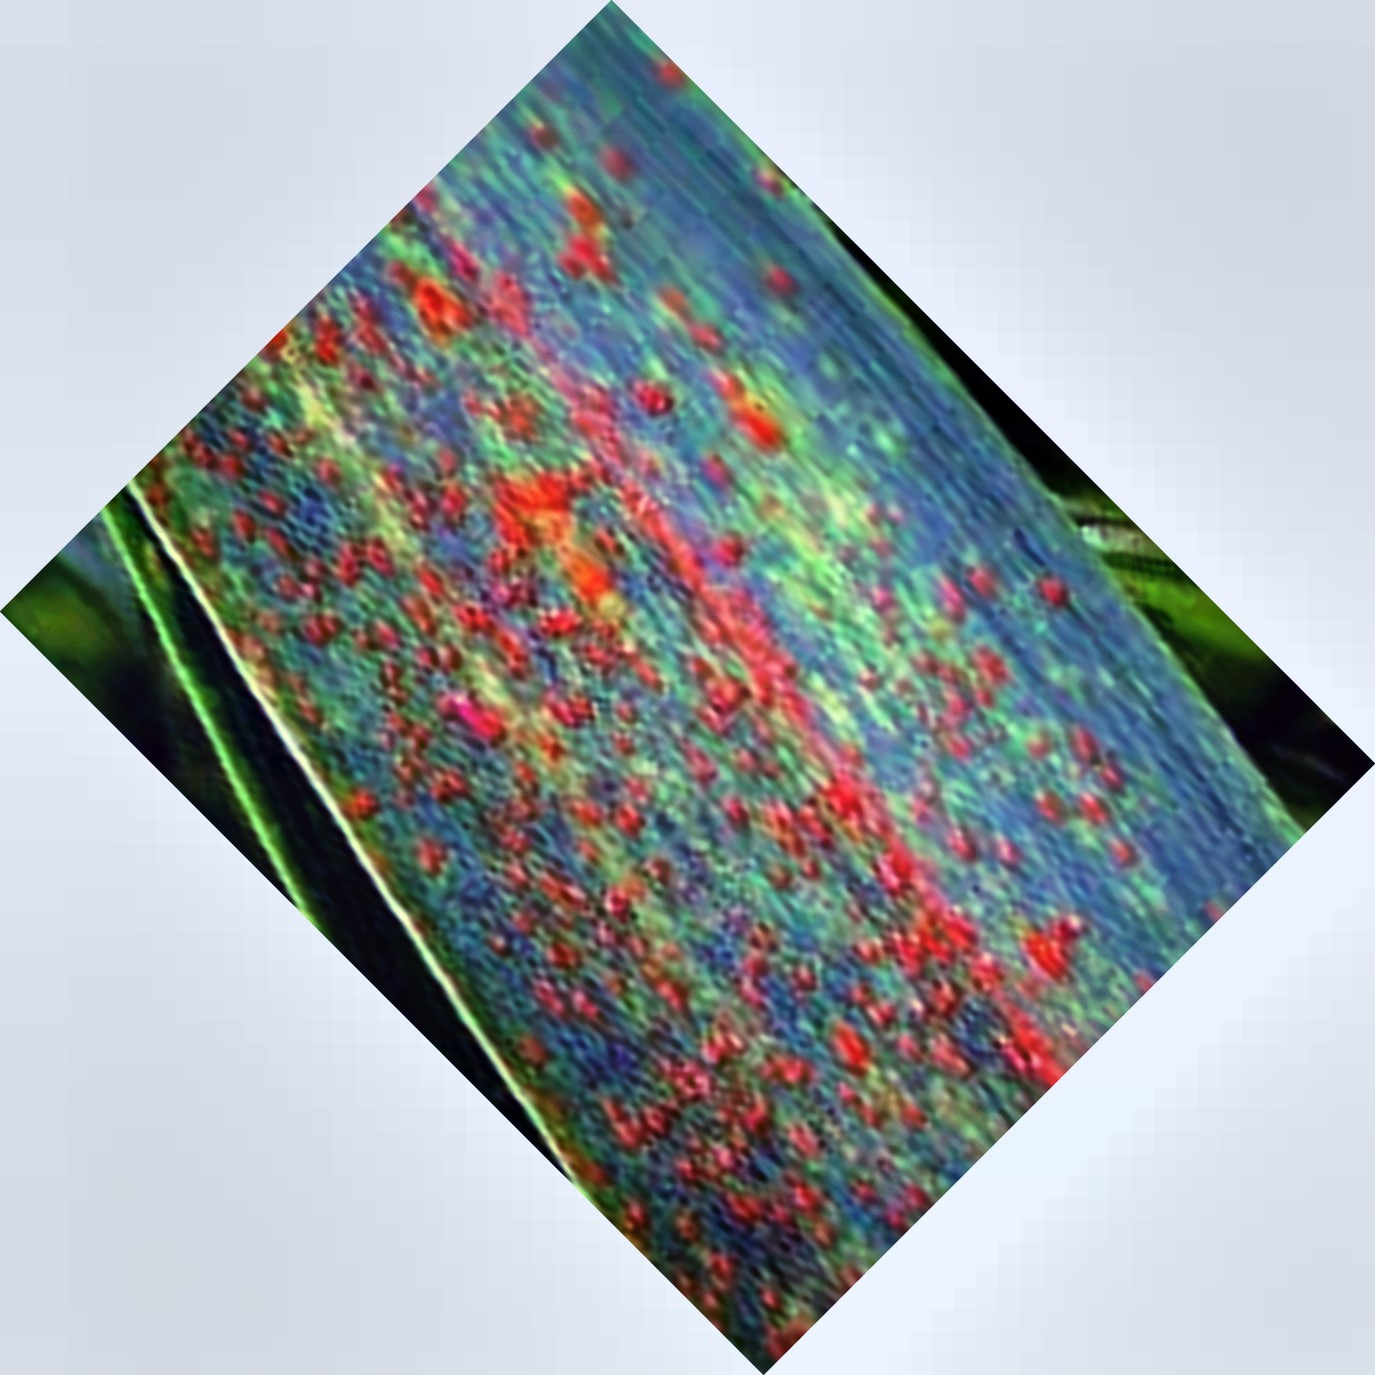Leaf Rust: (344, 329, 1038, 1196)
